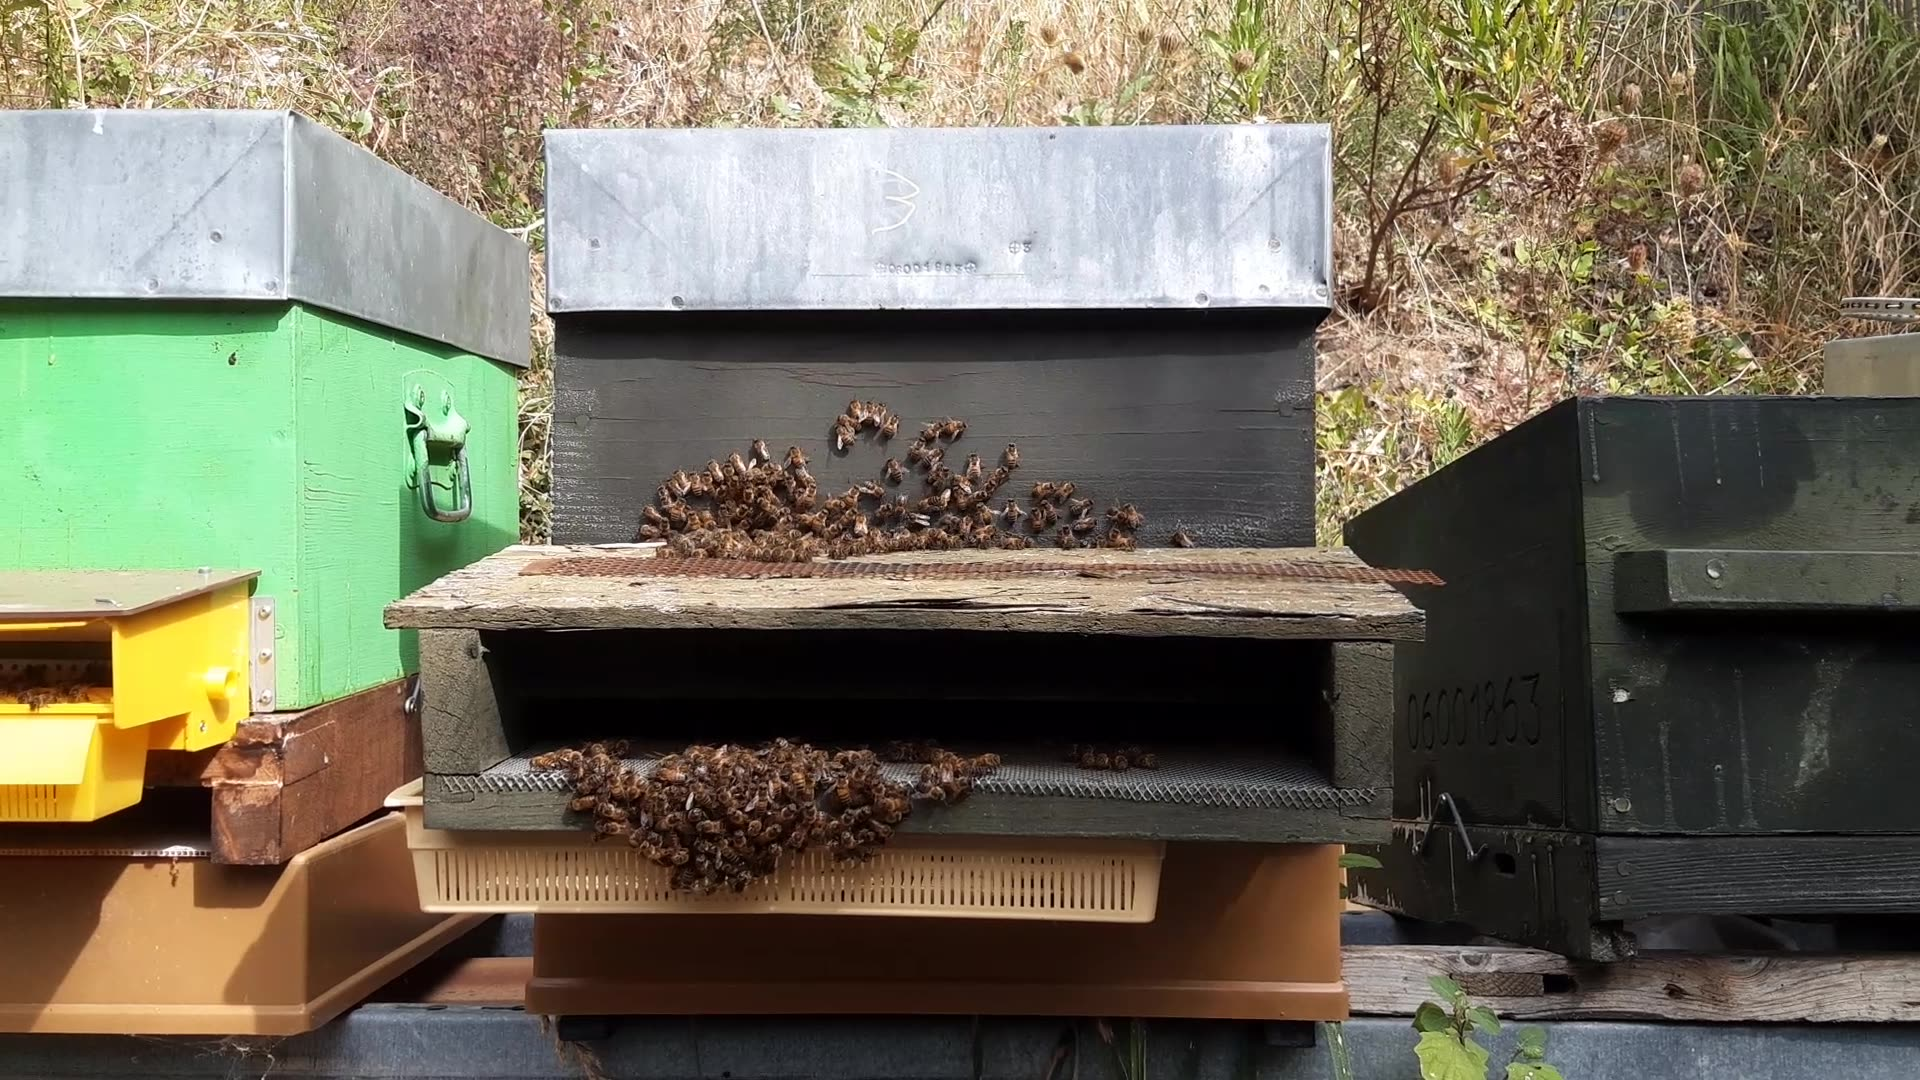bee: (829, 815, 899, 886), (673, 827, 738, 897), (527, 744, 607, 800), (832, 502, 915, 550), (641, 502, 725, 549), (935, 497, 1005, 549), (1062, 502, 1133, 550), (727, 458, 793, 506), (1118, 512, 1183, 560), (829, 405, 893, 454), (622, 733, 708, 769), (851, 484, 909, 535), (963, 465, 1015, 520), (752, 509, 811, 550), (944, 427, 997, 471), (1036, 485, 1091, 527)
